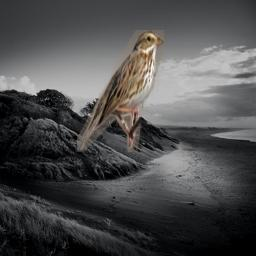Sparrow: (77, 30, 164, 152)
